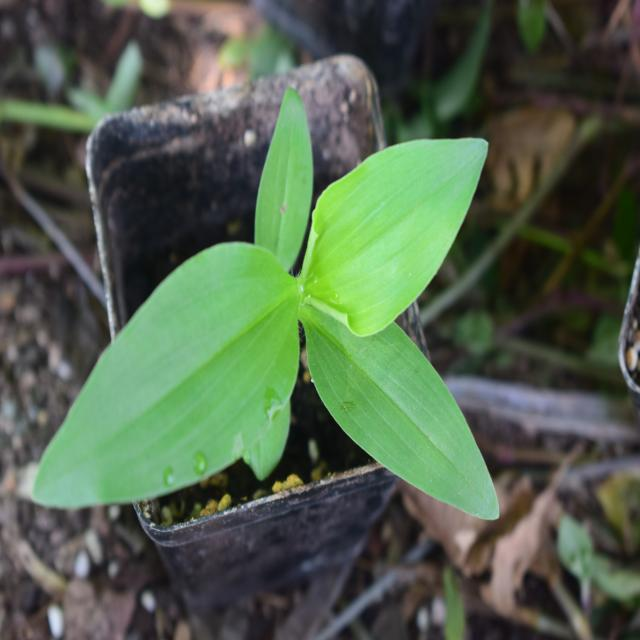Common Dayflower: (42, 93, 522, 542)
